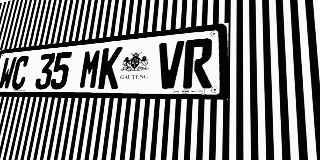3: (34, 53, 56, 90)
5: (49, 51, 72, 89)
C: (10, 55, 30, 90)
K: (97, 46, 123, 89)
M: (78, 48, 103, 89)
R: (183, 38, 213, 88)
V: (156, 40, 184, 89)
W: (0, 57, 17, 90)
